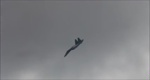maybay_muctieu: (63, 38, 82, 59)
